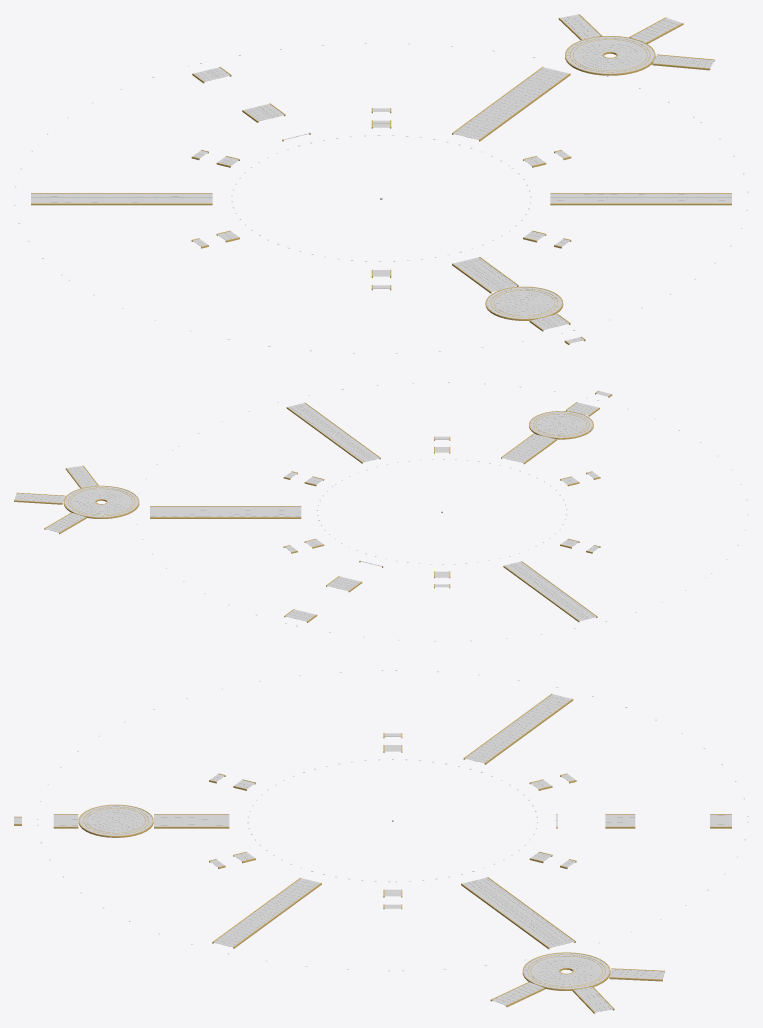
File: Yggdrasil_Paving.fbx
3 views of the same model, one above another, from view 1: azimuth 30°, elevation 25°; view 2: azimuth 150°, elevation 25°; view 3: azimuth 270°, elevation 25° (orthographic). The views are drawn at different scales.
Parts seen in each view (by area): view 1: HB_Avenues__Marble, HB_Plazas__Marble, HB_Avenues__Gold, HB_Avenues__GoldFlat, HB_Avenues__Lapis, HB_Plazas__GoldFlat, HB_Plazas__Shade, HB_Plazas__Lapis, HB_Plazas__Gold; view 2: HB_Avenues__Marble, HB_Plazas__Marble, HB_Avenues__Gold, HB_Avenues__GoldFlat, HB_Avenues__Lapis, HB_Plazas__GoldFlat, HB_Plazas__Shade, HB_Plazas__Lapis; view 3: HB_Avenues__Marble, HB_Plazas__Marble, HB_Avenues__Gold, HB_Avenues__GoldFlat, HB_Avenues__Lapis, HB_Plazas__GoldFlat, HB_Plazas__Shade, HB_Plazas__Lapis.
Part boxes in pixels (x1,y1,x2,y2): HB_Avenues__Marble: [31, 14, 731, 343]; HB_Plazas__Marble: [486, 36, 654, 318]; HB_Avenues__Gold: [31, 15, 731, 344]; HB_Avenues__GoldFlat: [31, 14, 731, 343]; HB_Avenues__Lapis: [31, 70, 731, 326]; HB_Plazas__GoldFlat: [485, 36, 655, 319]; HB_Plazas__Shade: [486, 39, 654, 318]; HB_Plazas__Lapis: [491, 38, 649, 317]; HB_Plazas__Gold: [485, 36, 655, 320]; HB_Avenues__Marble: [14, 391, 610, 621]; HB_Plazas__Marble: [65, 411, 592, 517]; HB_Avenues__Gold: [14, 391, 612, 622]; HB_Avenues__GoldFlat: [14, 390, 611, 621]; HB_Avenues__Lapis: [150, 405, 588, 619]; HB_Plazas__GoldFlat: [63, 411, 593, 517]; HB_Plazas__Shade: [64, 411, 592, 516]; HB_Plazas__Lapis: [68, 413, 589, 515]; HB_Avenues__Marble: [14, 694, 731, 1012]; HB_Plazas__Marble: [79, 805, 609, 988]; HB_Avenues__Gold: [14, 694, 731, 1013]; HB_Avenues__GoldFlat: [14, 693, 731, 1012]; HB_Avenues__Lapis: [53, 696, 731, 945]; HB_Plazas__GoldFlat: [78, 804, 610, 989]; HB_Plazas__Shade: [79, 805, 609, 988]; HB_Plazas__Lapis: [84, 807, 604, 987].
Bounding box in the file's own units: 515 × 1.23 × 468.
